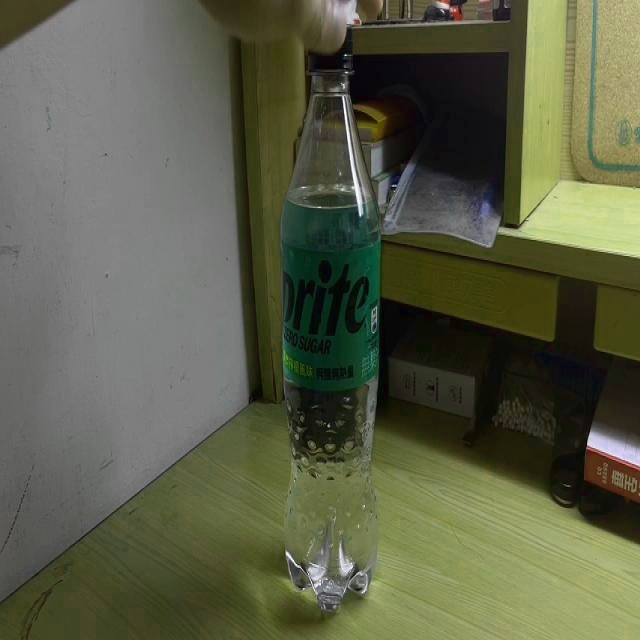Sprite: (279, 24, 380, 617)
